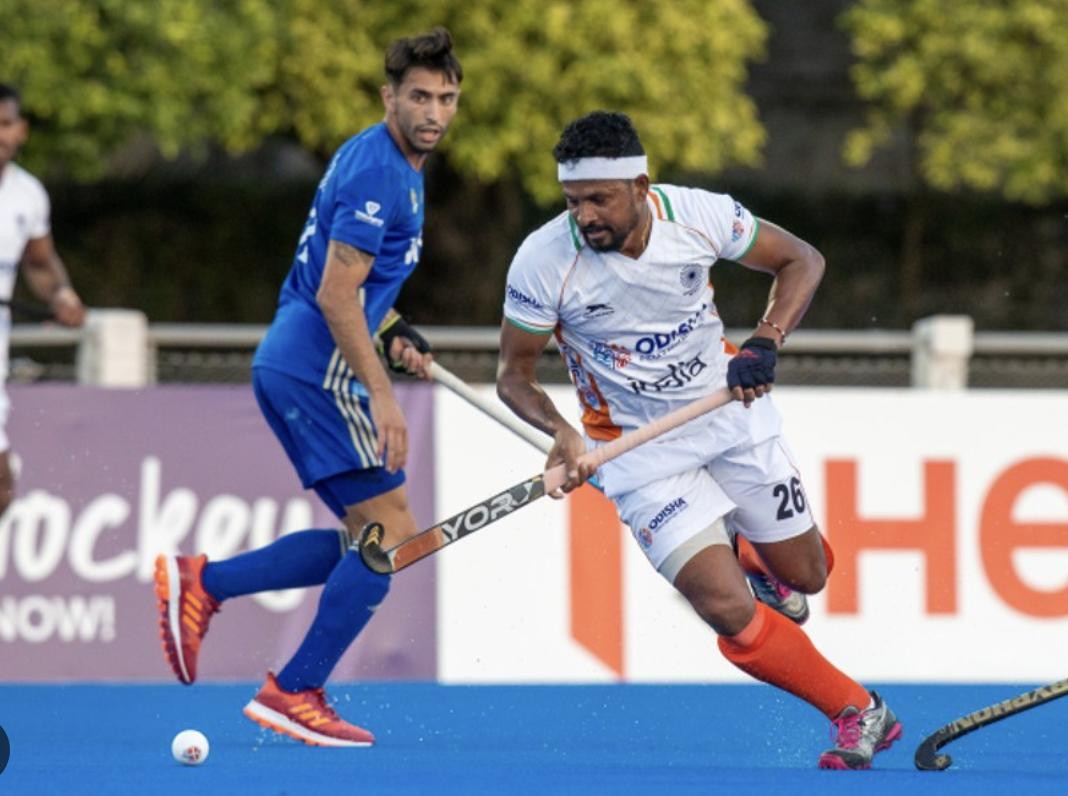ball: (167, 723, 216, 770)
